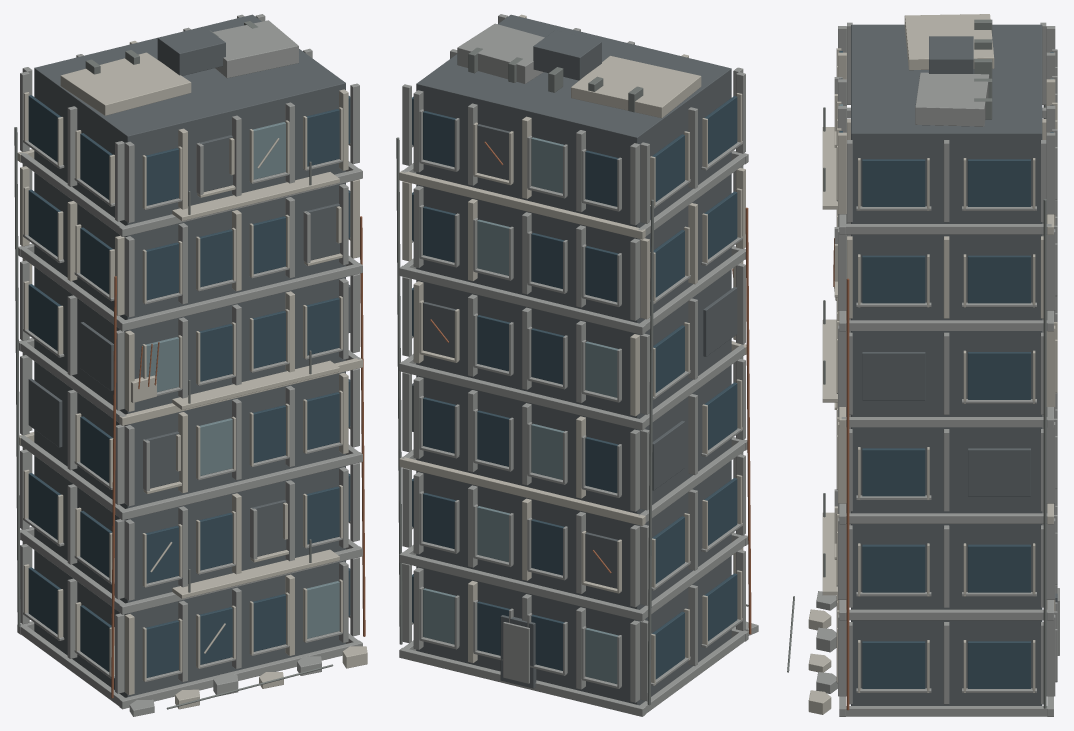
File: Apoc_Building_02_Office_Glass_Ruin.fbx
3 views of the same model, side by side, from view 1: azimuth 30°, elevation 25°; view 2: azimuth 150°, elevation 25°; view 3: azimuth 270°, elevation 25° (orthographic). The views are drawn at different scales.
Visible parts, largest first — view 1: Apoc_Building_02_Office_Glass_Ruin; view 2: Apoc_Building_02_Office_Glass_Ruin; view 3: Apoc_Building_02_Office_Glass_Ruin.
Boxes of the visible parts, x1,y1,x2,y2 form: Apoc_Building_02_Office_Glass_Ruin: (14, 14, 367, 716); Apoc_Building_02_Office_Glass_Ruin: (396, 14, 758, 716); Apoc_Building_02_Office_Glass_Ruin: (787, 14, 1059, 716).
Size of the model in its own units: 6.35 by 14.28 by 5.77.
